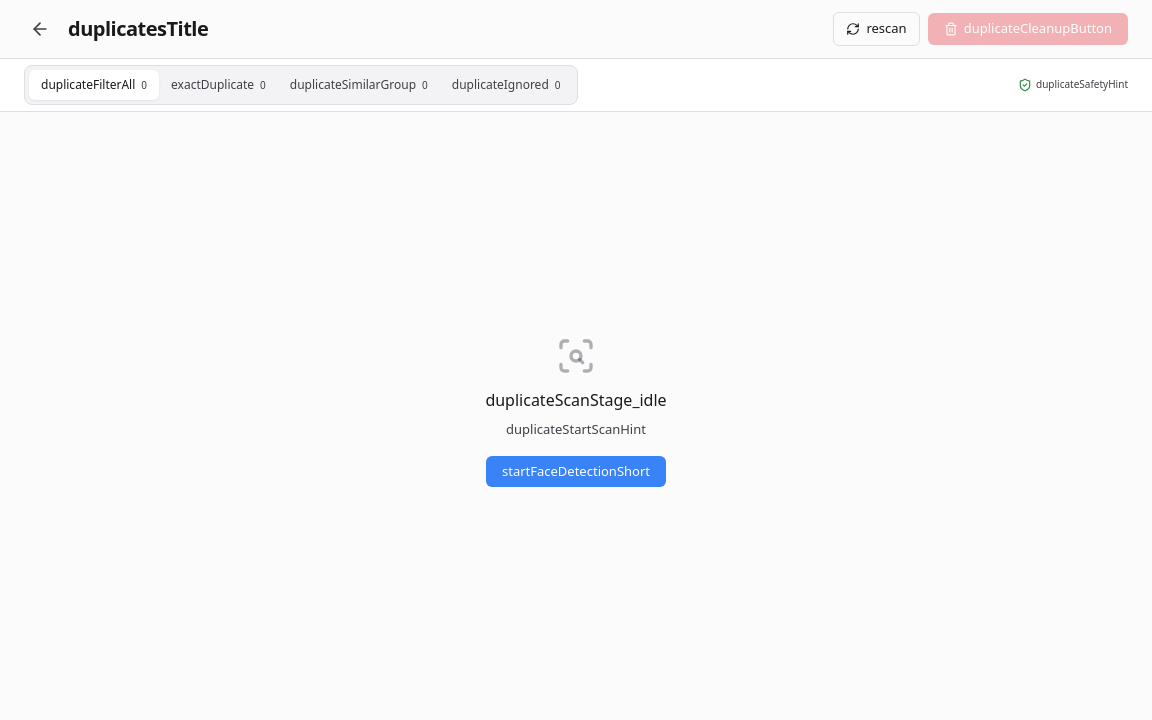
Scenario: DuplicatesPage persisted review › keeps batch recovery and failure information available for retry
Click the button "startFaceDetectionShort".
click(576, 472)  # box [486,456,666,487]
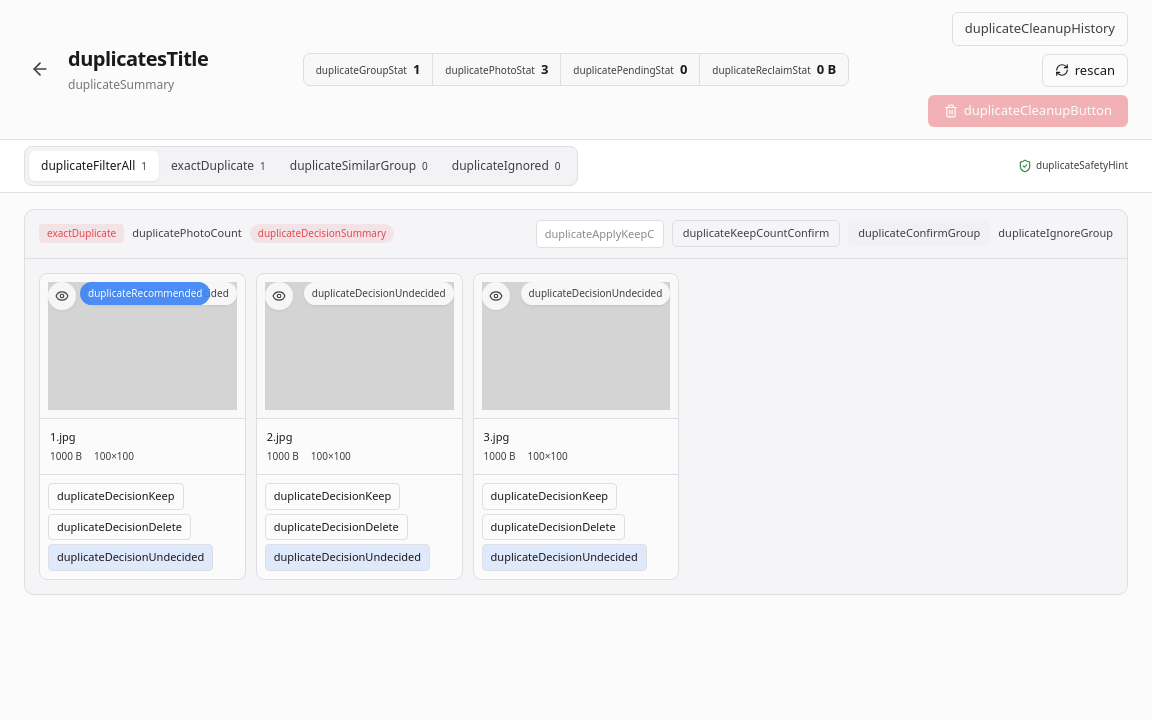
Expected: the button "duplicateCleanupHistory" is shown
Click the button "duplicateCleanupHistory".
click(1040, 29)  # box [952,12,1128,46]
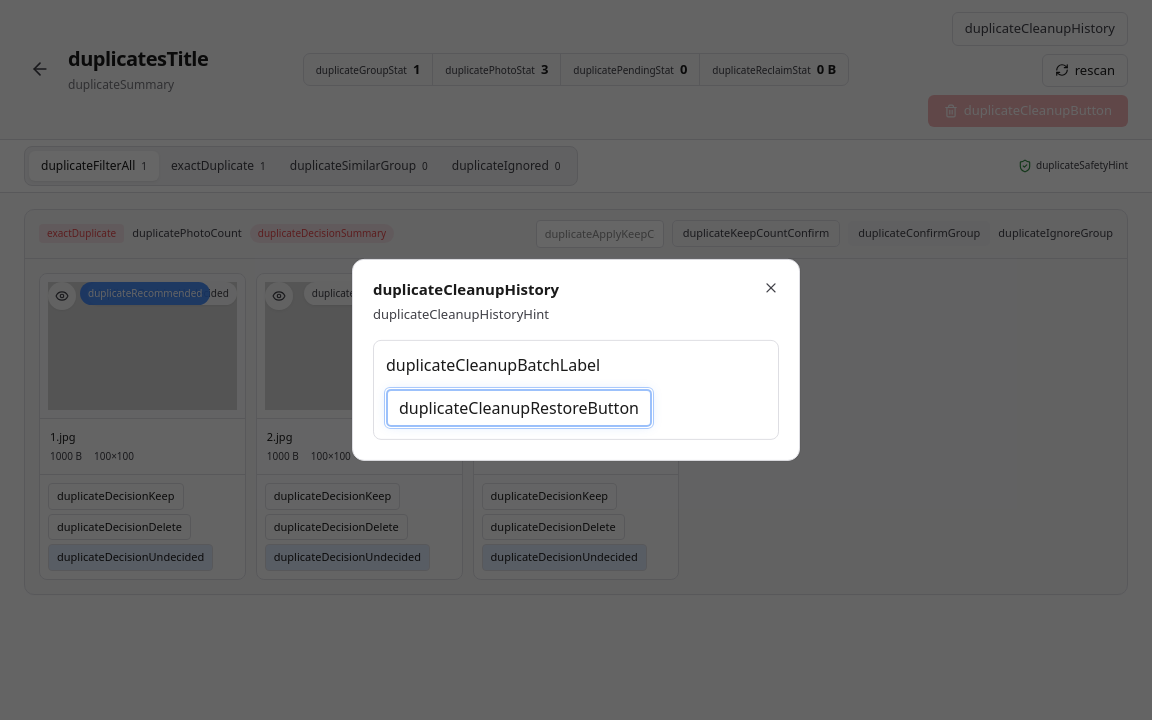
Click the button "duplicateCleanupRestoreButton".
click(519, 408)  # box [386,389,652,427]
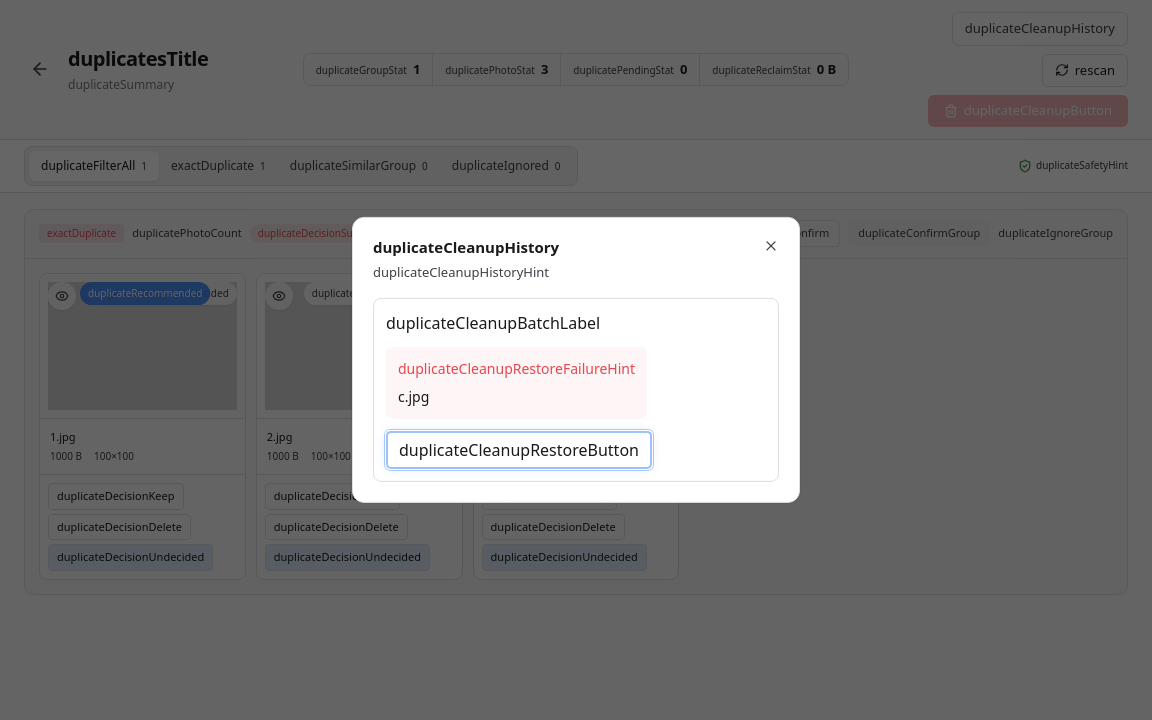
Expected: the button "duplicateCleanupRestoreButton" is enabled, [386,431,652,469]
Expected: the text "duplicateCleanupRestoreFailureHint" is shown, [398,359,635,379]
Expected: the list item "c.jpg" is shown, [398,387,429,406]
